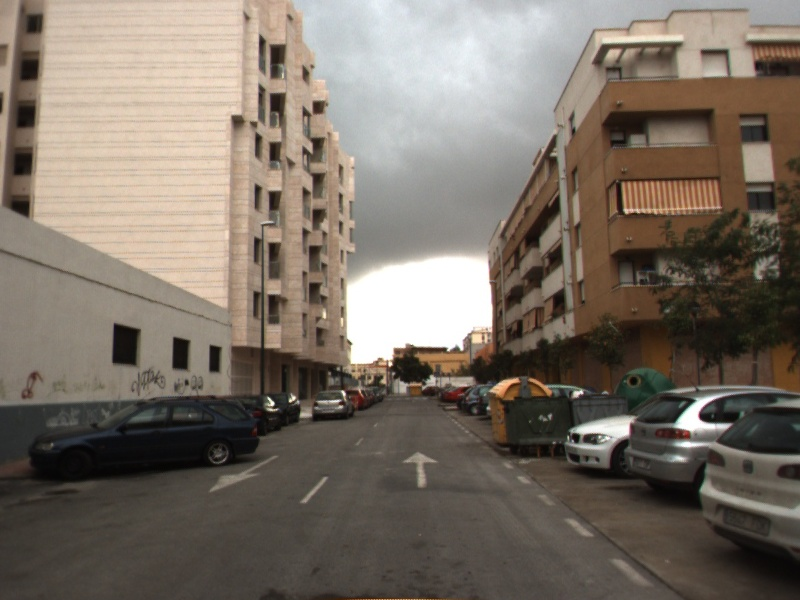STRAIGHT: (399, 448, 443, 490)
